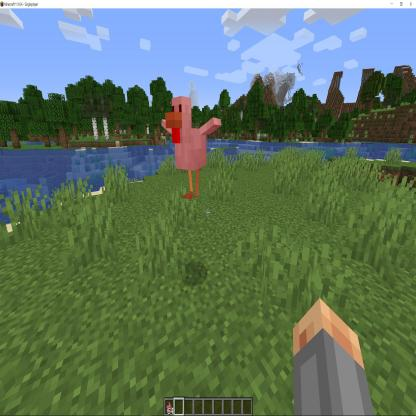minecraft-pigs: (160, 92, 224, 208)
